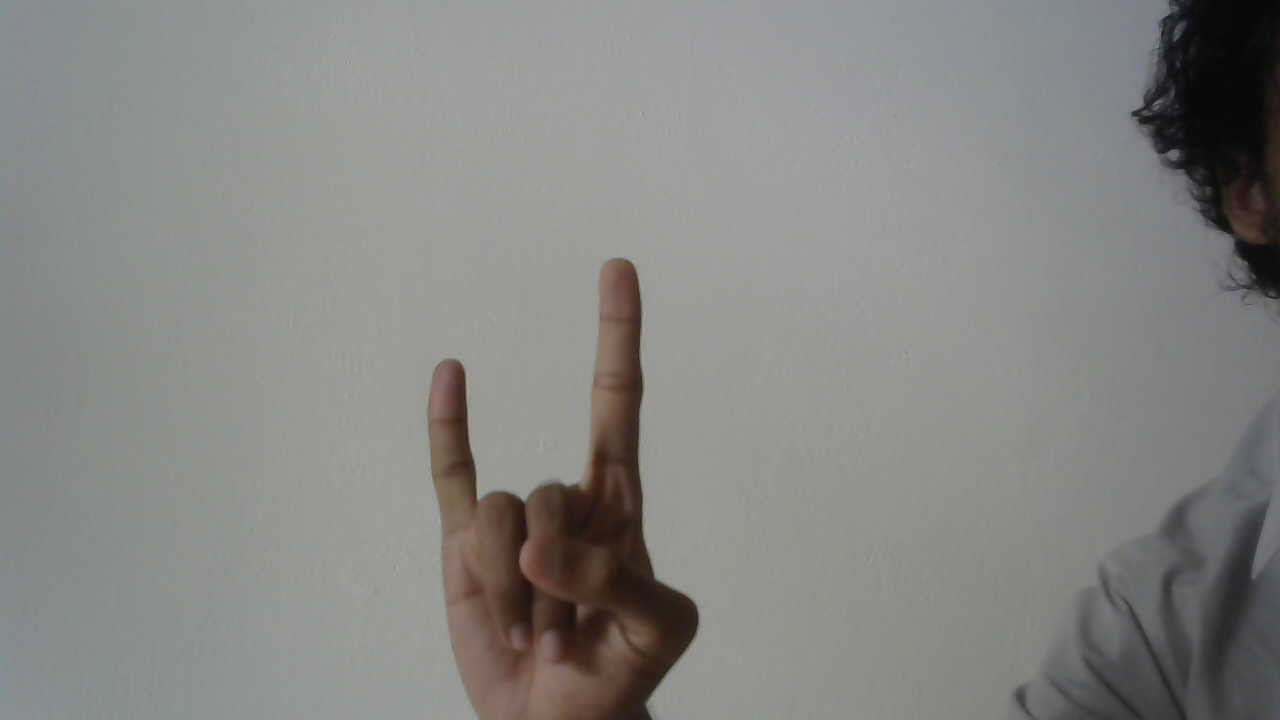iloveyou: (400, 250, 705, 717)
